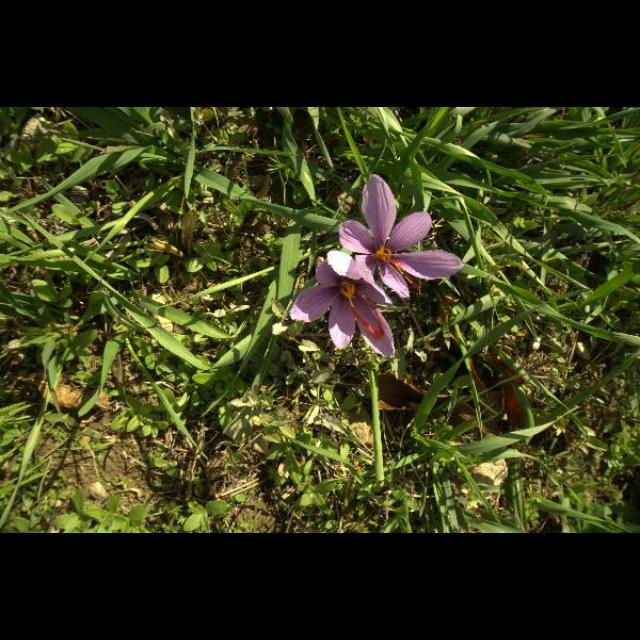flower: (340, 175, 462, 298), (291, 261, 395, 359)
